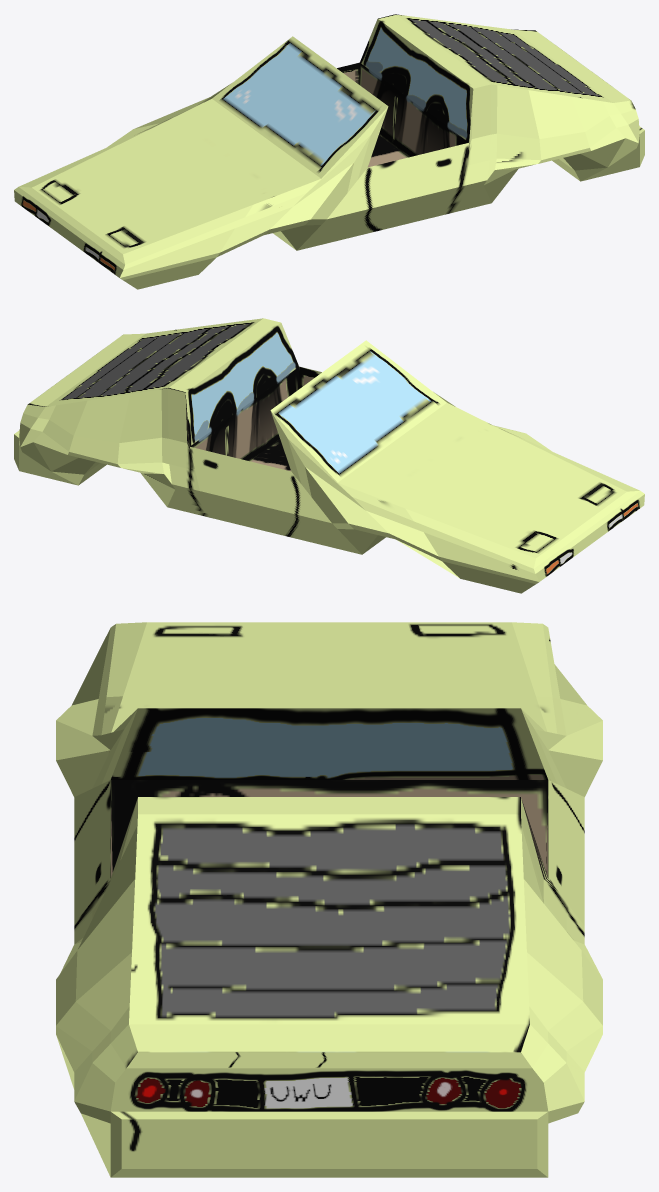
File: targa.fbx
3 views of the same model, one above another, from view 1: azimuth 30°, elevation 25°; view 2: azimuth 150°, elevation 25°; view 3: azimuth 270°, elevation 25° (orthographic). The views are drawn at different scales.
Parts seen in each view (by area): view 1: Cube; view 2: Cube; view 3: Cube.
Part boxes in pixels (bbox=[...]): Cube: bbox=[14, 14, 644, 289]; Cube: bbox=[14, 318, 644, 593]; Cube: bbox=[56, 622, 602, 1177].
Bounding box in the file's own units: 666 × 140 × 300.
